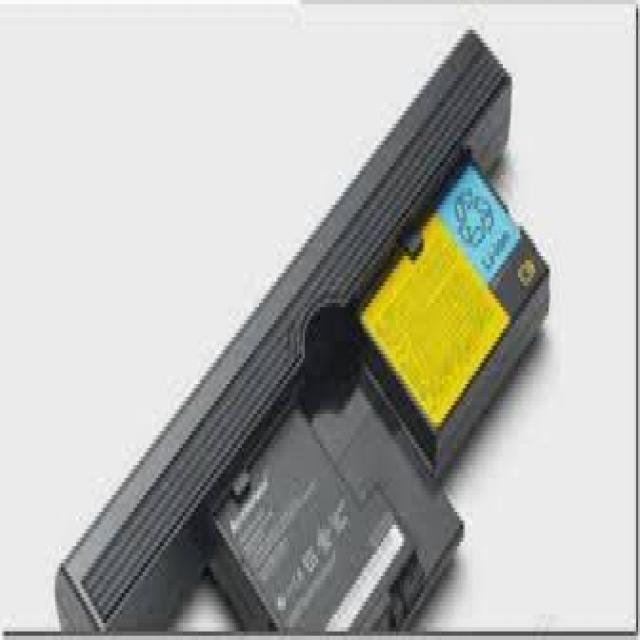battery: (56, 26, 549, 640)
